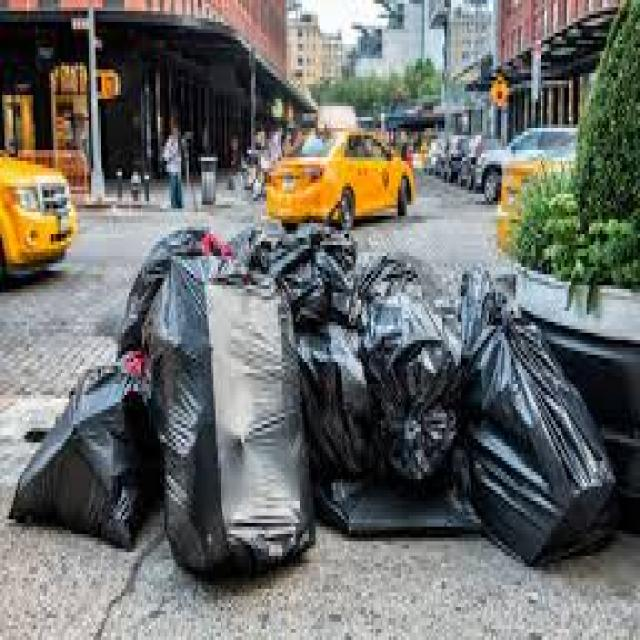plastic_bag: (168, 257, 314, 561), (457, 319, 608, 539), (12, 371, 150, 539), (372, 259, 454, 467), (301, 312, 372, 458), (244, 232, 366, 309)
